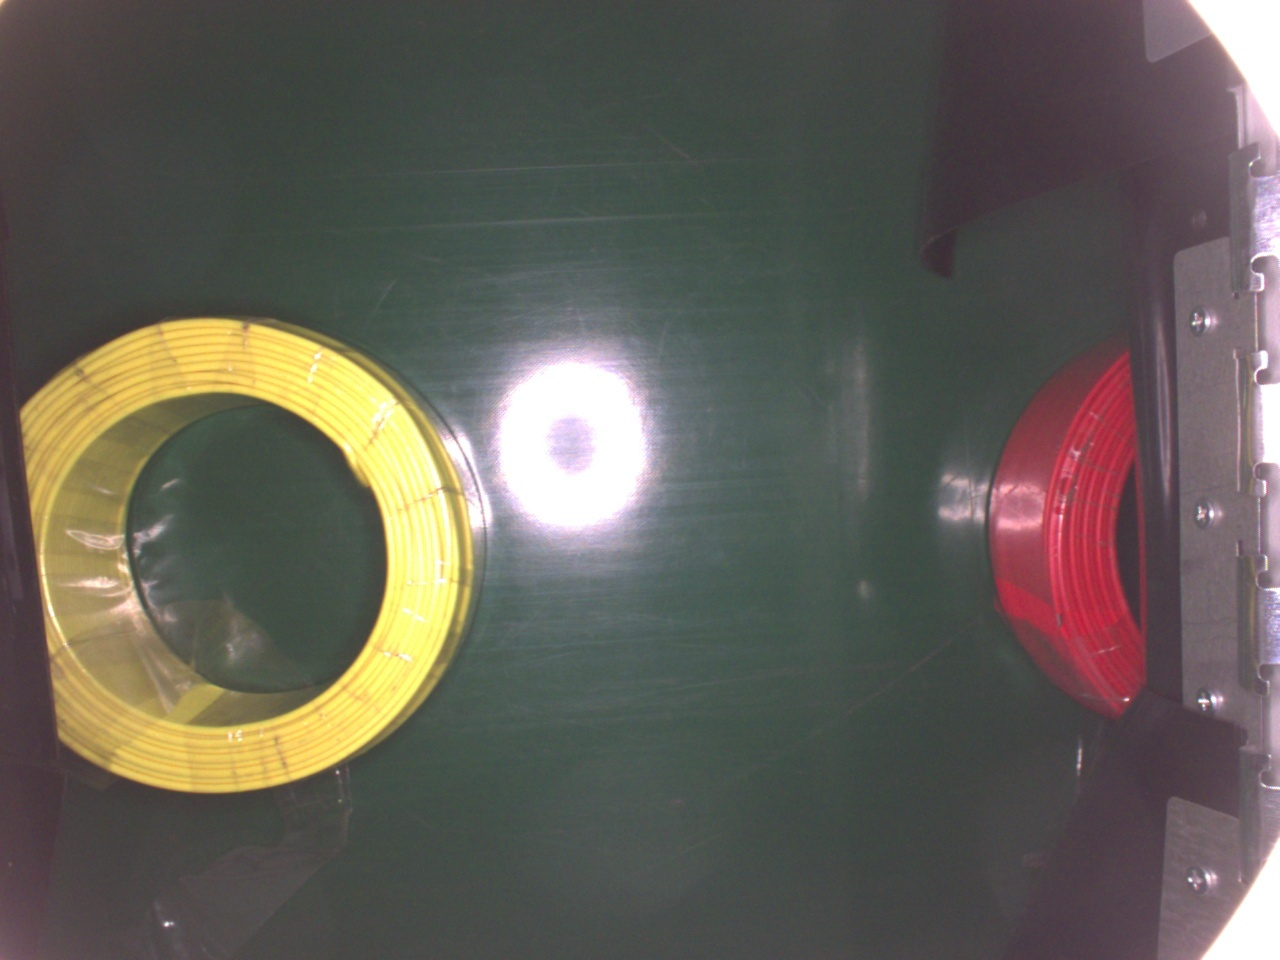red: (987, 336, 1156, 730)
yellow: (20, 314, 488, 796)
